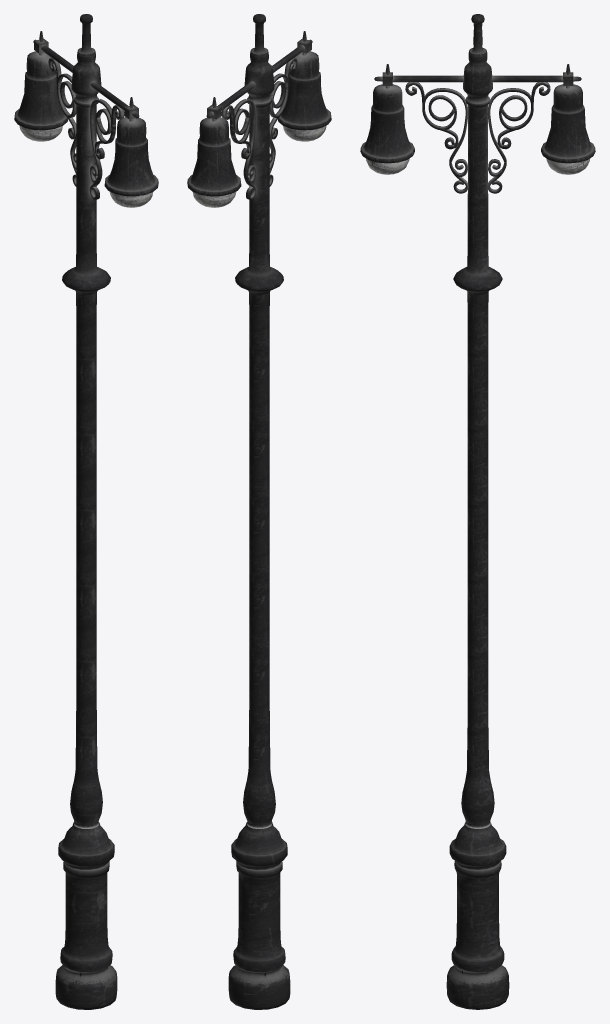
Rendered from lampost2.fbx.
3 views of the same model, side by side, from view 1: azimuth 30°, elevation 25°; view 2: azimuth 150°, elevation 25°; view 3: azimuth 270°, elevation 25° (orthographic).
Parts seen in each view (by area): view 1: Light1; view 2: Light1; view 3: Light1.
Part boxes in pixels (box(x1,y1,x2,y2)): Light1: box(14, 14, 158, 1009); Light1: box(187, 14, 331, 1009); Light1: box(360, 14, 595, 1009).
Size of the model in its own units: 0.4519 by 7.82 by 1.7.
